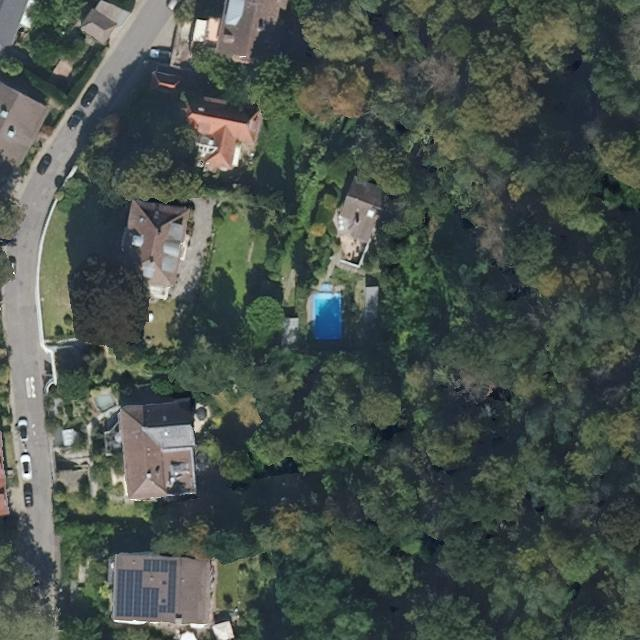PV: (111, 566, 160, 622), (142, 558, 178, 614)
